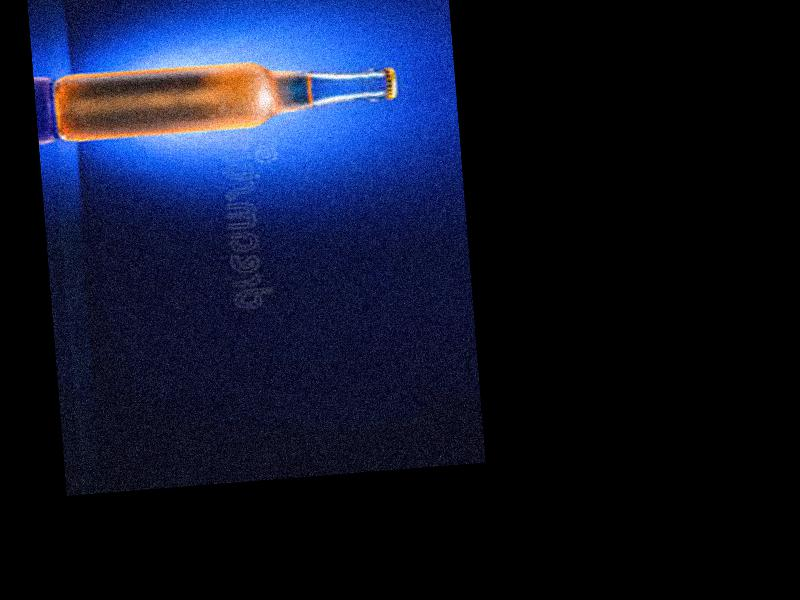Beer: (53, 46, 399, 144)
